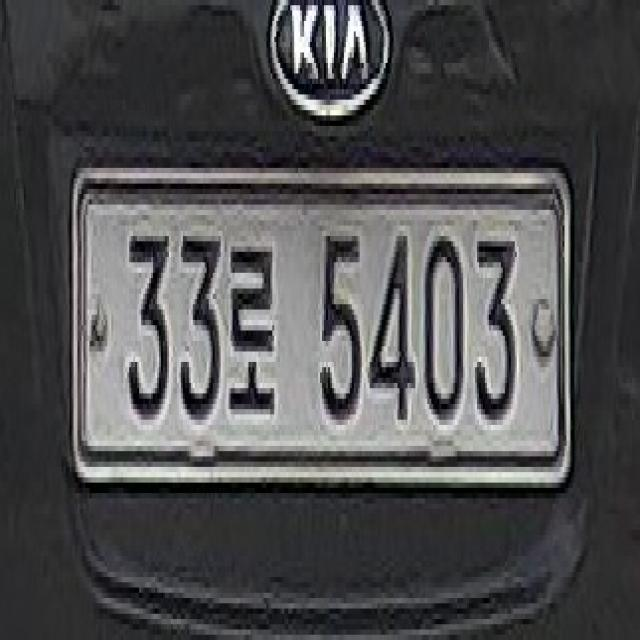0: (421, 231, 465, 425)
3: (175, 225, 223, 425), (473, 226, 519, 430), (127, 220, 171, 430)
4: (370, 231, 415, 430)
5: (316, 226, 364, 430)
license_plate: (76, 173, 568, 483)
lo: (227, 241, 274, 425)
